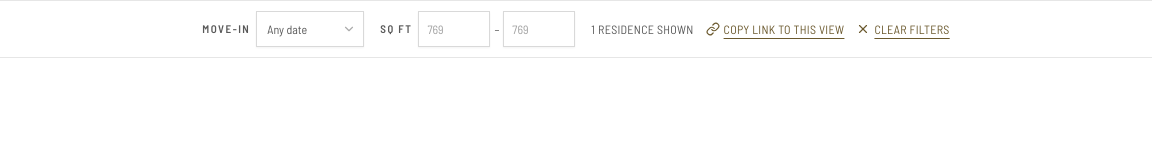
Scenario: UnitFilterRow filtered-link copy control › shows an accessible, focused fallback without claiming success when the clipboard write fails
The width and height of the screenshot is (1152, 167).
Click the button with test id "button-copy-filtered-view-link". click: {"x": 775, "y": 29}
box: [706,11,844,47]
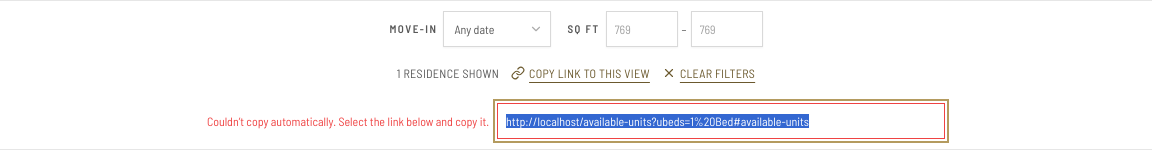
expect the button with test id "button-copy-filtered-view-link" reads "Copy link to this view": met, box [511,55,650,91]
expect the message "Couldn’t copy automatically. Select the link below and copy it." is shown: met, box [207,113,489,129]
